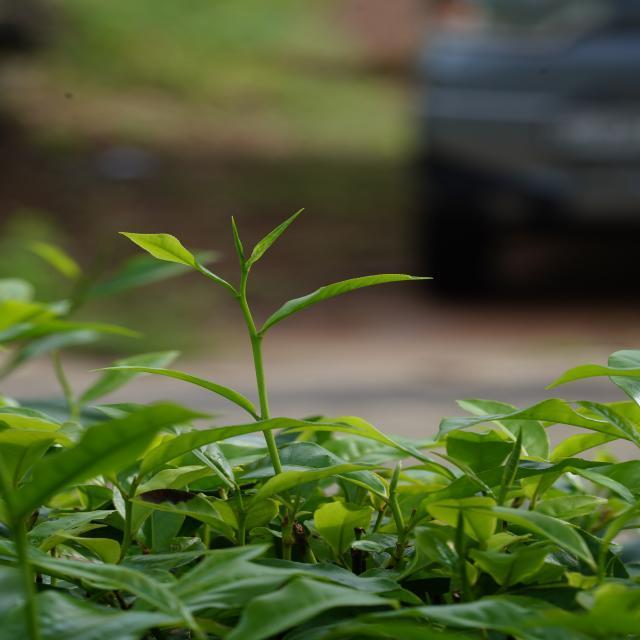Stem: (238, 292, 246, 300)
